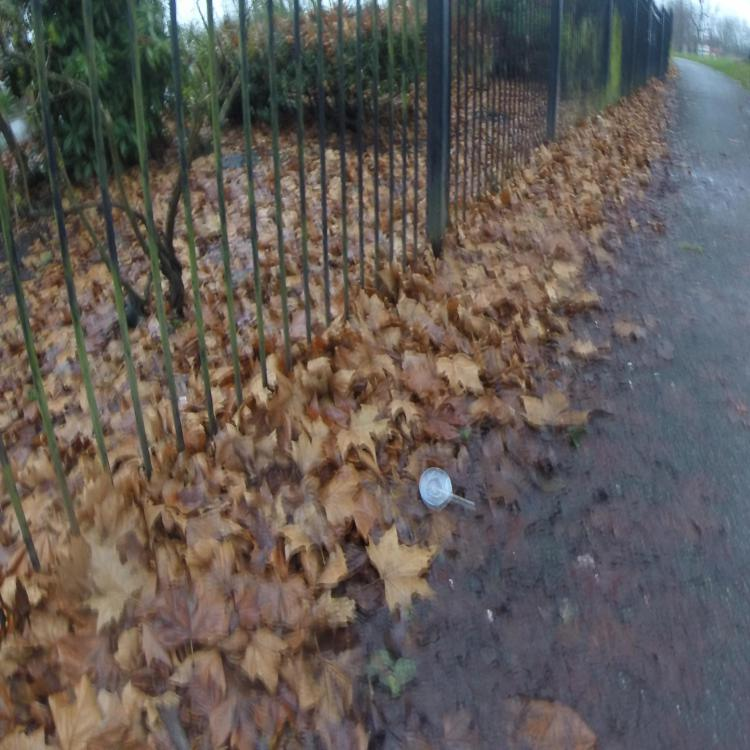Plastic lid: (419, 467, 453, 512)
Plastic straw: (438, 488, 474, 506)
